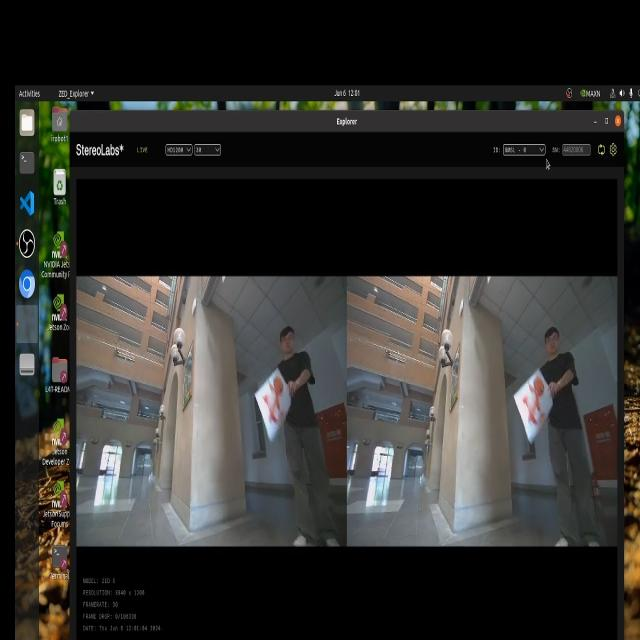red: (253, 378, 293, 436), (517, 373, 548, 439)
